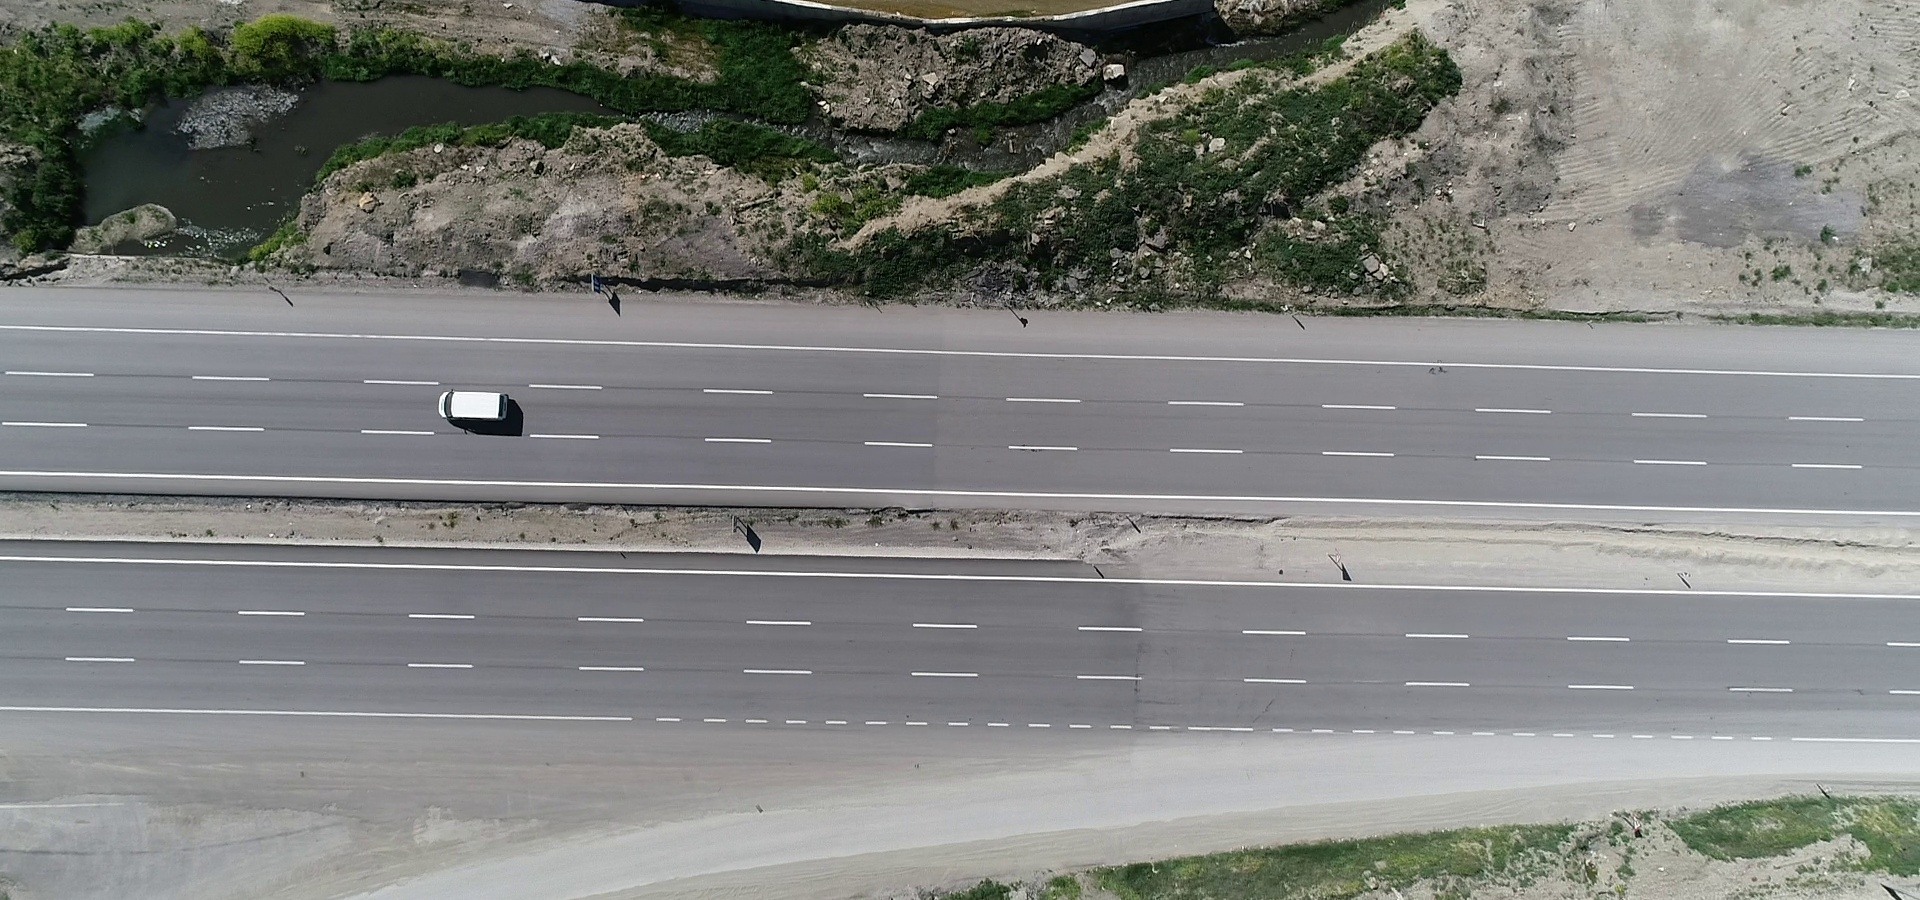araba: (433, 387, 516, 429)
